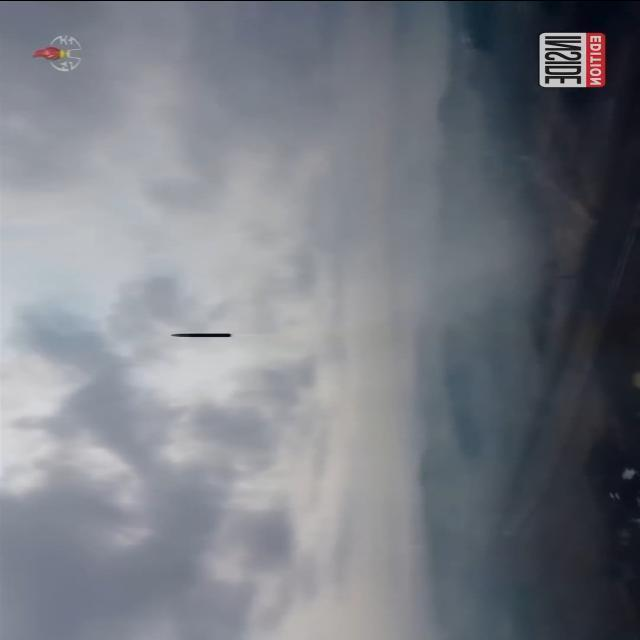missile: (168, 330, 232, 342)
